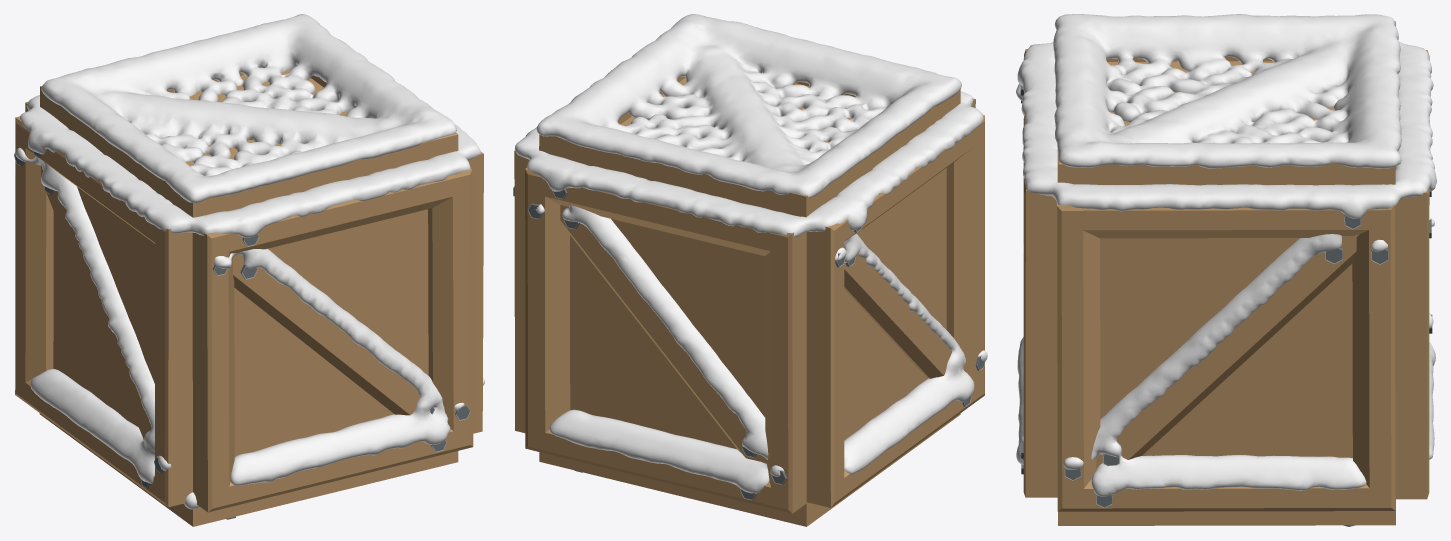
The model's file is Box SNOW.fbx.
3 views of the same model, side by side, from view 1: azimuth 30°, elevation 25°; view 2: azimuth 150°, elevation 25°; view 3: azimuth 270°, elevation 25° (orthographic). The views are drawn at different scales.
Parts seen in each view (by area): view 1: Cylinder.002, SnowBall.001; view 2: Cylinder.002, SnowBall.001; view 3: Cylinder.002, SnowBall.001.
Boxes of the visible parts, bbox=[...] form: Cylinder.002: bbox=[14, 66, 483, 526]; SnowBall.001: bbox=[15, 14, 484, 509]; Cylinder.002: bbox=[513, 76, 985, 526]; SnowBall.001: bbox=[515, 14, 987, 493]; Cylinder.002: bbox=[1020, 21, 1432, 526]; SnowBall.001: bbox=[1016, 14, 1436, 496].
Bounding box in the file's own units: 171 × 171 × 171.
